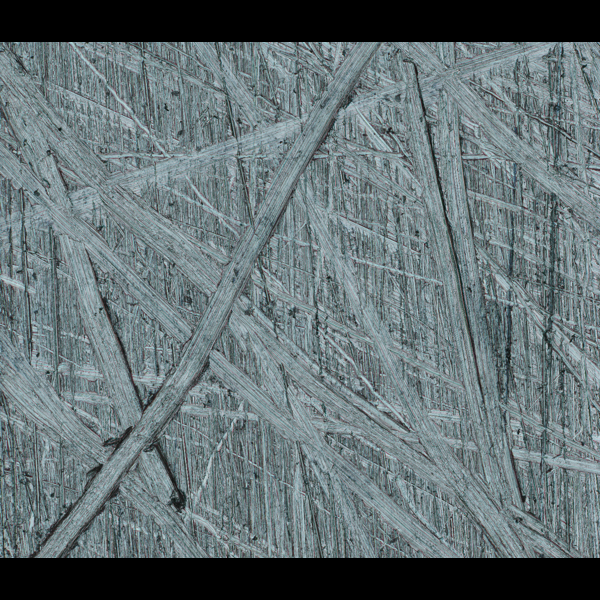d: (4, 42, 594, 555)
